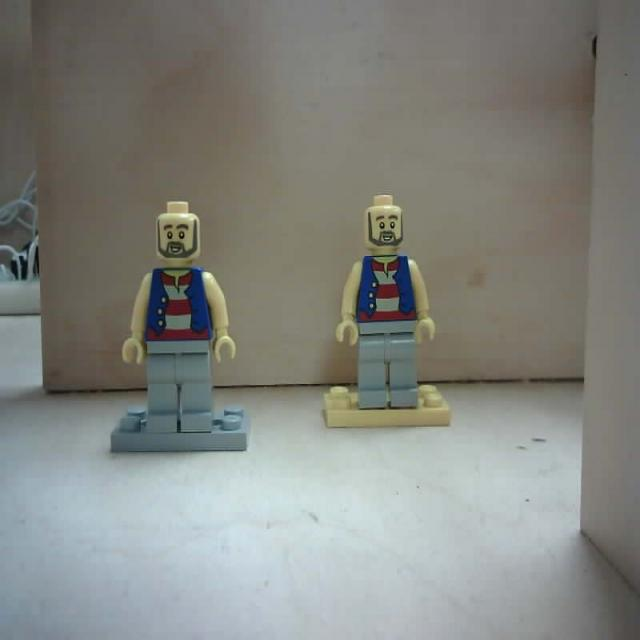Lego-People: (106, 199, 253, 454), (322, 196, 451, 433)
